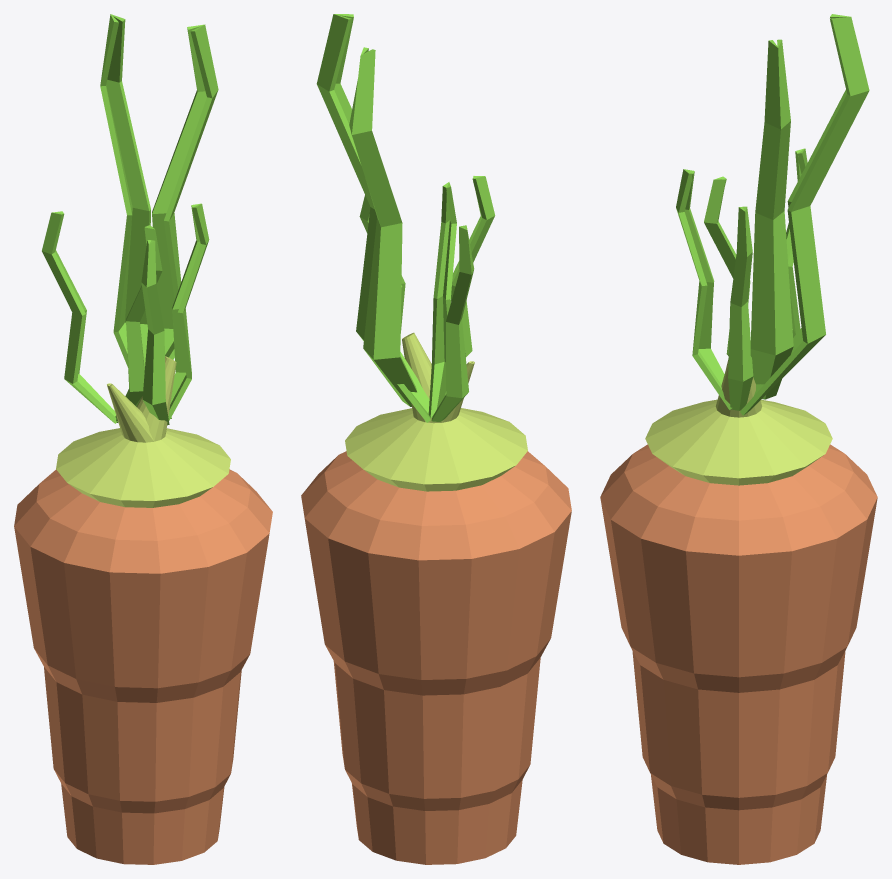
Rendered from fruit12.fbx.
The picture shows the model from 3 angles, left to right: view 1: azimuth 30°, elevation 25°; view 2: azimuth 150°, elevation 25°; view 3: azimuth 270°, elevation 25°; orthographic projection. The views are drawn at different scales.
Parts seen in each view (by area): view 1: Plane.064; view 2: Plane.064; view 3: Plane.064.
Boxes of the visible parts, x1=… form: Plane.064: x1=14, y1=14, x2=272, y2=864; Plane.064: x1=301, y1=14, x2=571, y2=864; Plane.064: x1=600, y1=14, x2=877, y2=864.
Bounding box in the file's own units: 0.1118 × 0.3664 × 0.1118.
